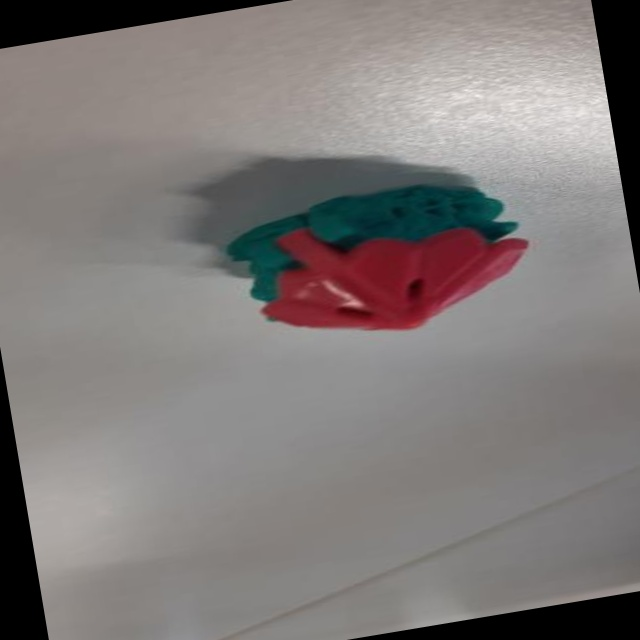House: (211, 168, 540, 361)
